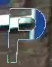Parking: (1, 3, 48, 65)
